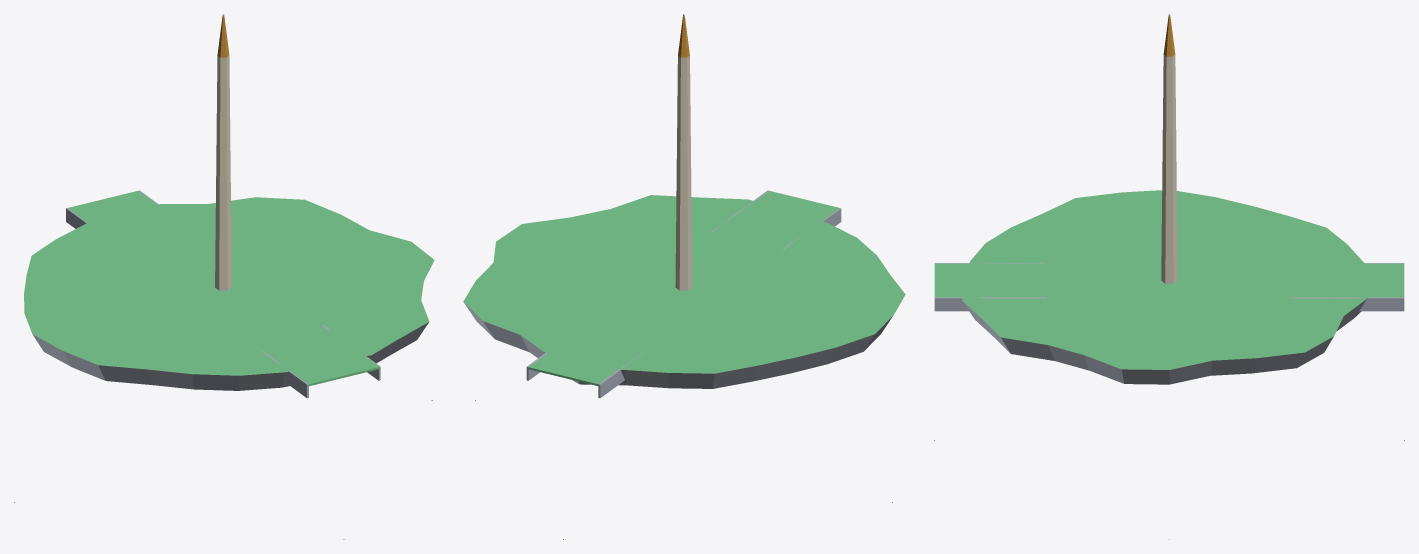
Rendered from chunk_es_meadow_bloom.fbx.
3 views of the same model, side by side, from view 1: azimuth 30°, elevation 25°; view 2: azimuth 150°, elevation 25°; view 3: azimuth 270°, elevation 25° (orthographic). The views are drawn at different scales.
Visible parts, largest first — view 1: ES_MEADOW_BLOOM; view 2: ES_MEADOW_BLOOM; view 3: ES_MEADOW_BLOOM.
Boxes of the visible parts, x1,y1,x2,y2 form: ES_MEADOW_BLOOM: (14,14,434,539); ES_MEADOW_BLOOM: (463,14,905,539); ES_MEADOW_BLOOM: (934,14,1404,539).
Bounding box in the file's own units: 256 × 256 × 256.
